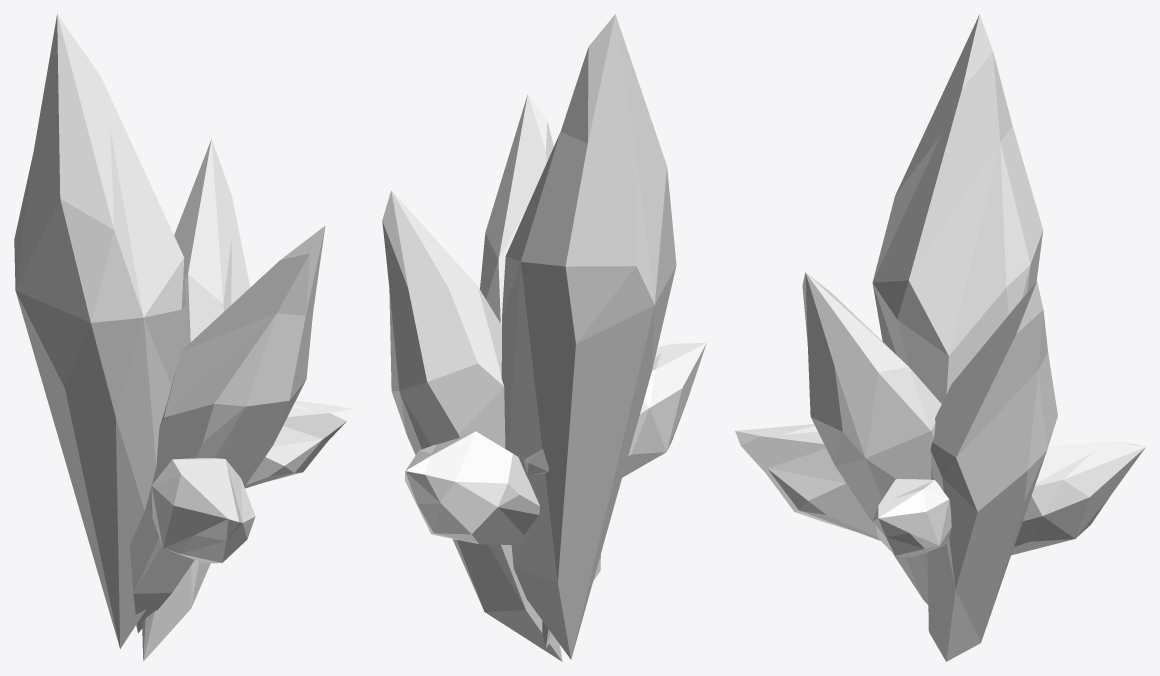
Rendered from Crystal 2.fbx.
3 renders of one model, left to right at view 1: azimuth 30°, elevation 25°; view 2: azimuth 150°, elevation 25°; view 3: azimuth 270°, elevation 25°, orthographic. The views are drawn at different scales.
Parts seen in each view (by area): view 1: Crystal 2; view 2: Crystal 2; view 3: Crystal 2.
Boxes of the visible parts, <box> form: Crystal 2: <box>14,14,353,661</box>; Crystal 2: <box>382,14,706,661</box>; Crystal 2: <box>735,14,1145,661</box>.
Size of the model in its own units: 994 by 2191 by 1324.
1 material, 1 textured.
